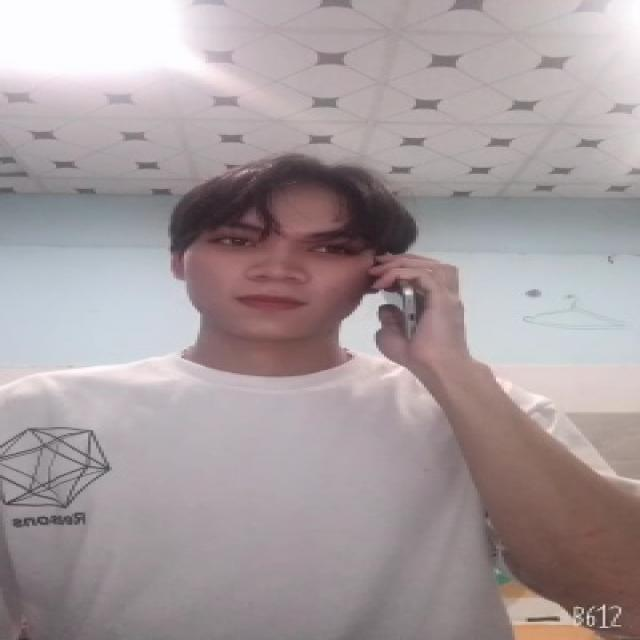Phone: (371, 259, 435, 349)
